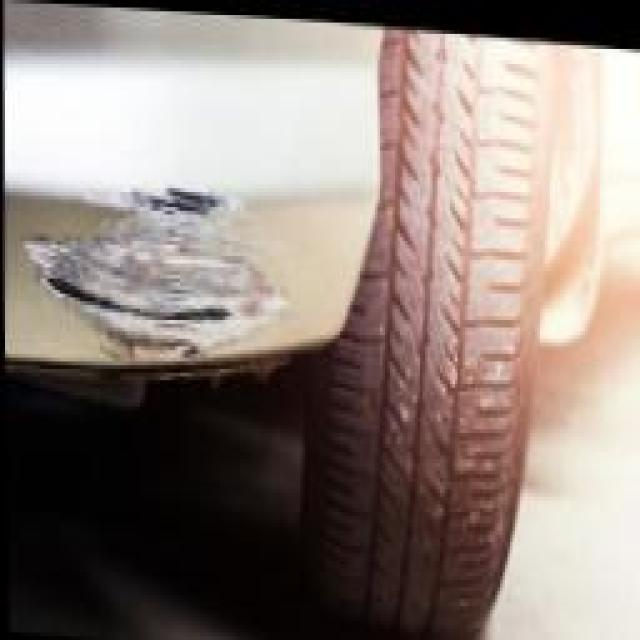Bumper: (8, 124, 298, 388)
